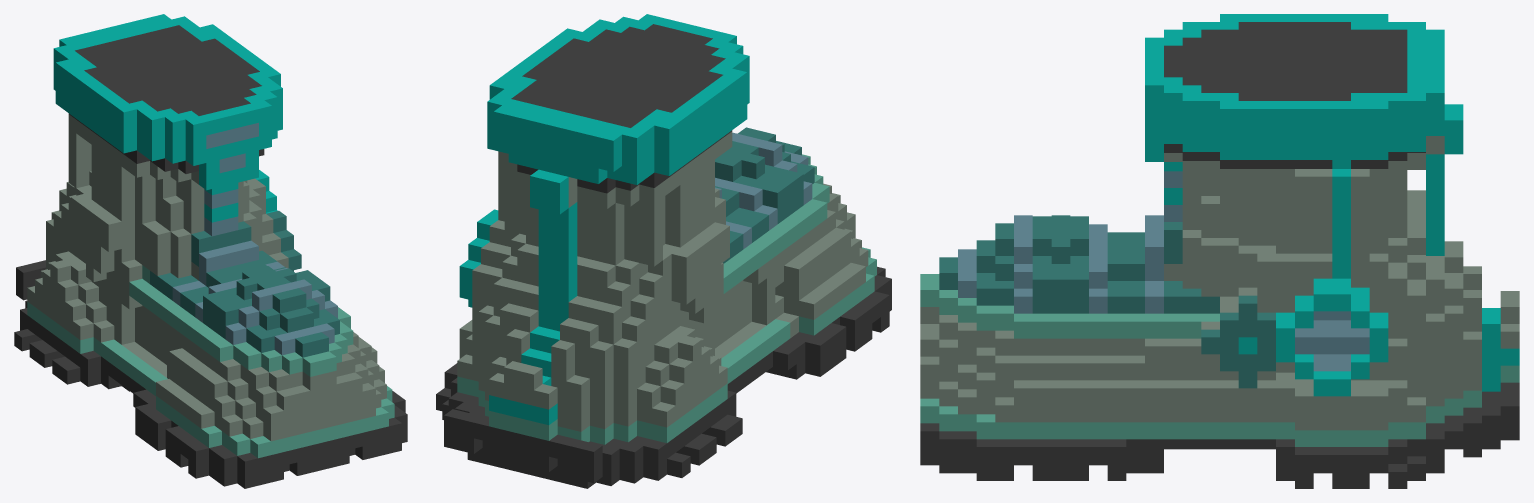
3 views of the same model, side by side, from view 1: azimuth 30°, elevation 25°; view 2: azimuth 150°, elevation 25°; view 3: azimuth 270°, elevation 25° (orthographic). The views are drawn at different scales.
Bounding box in the file's own units: 0.85 × 1.05 × 1.6.
